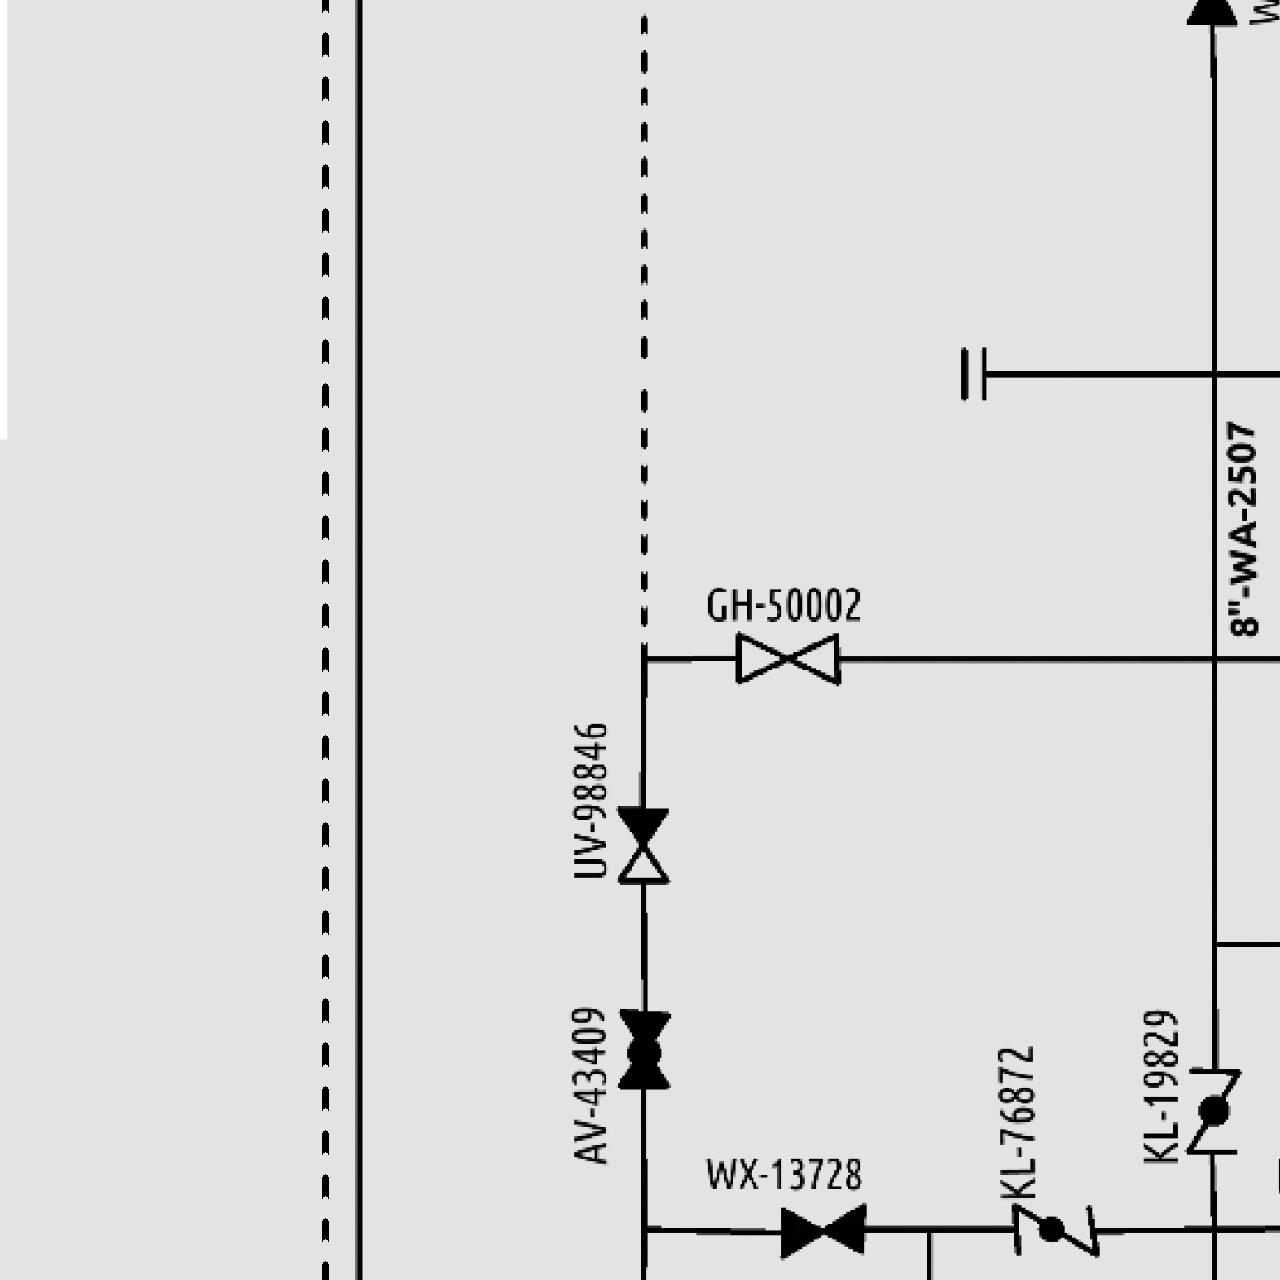Half closed valve: (615, 801, 676, 886)
